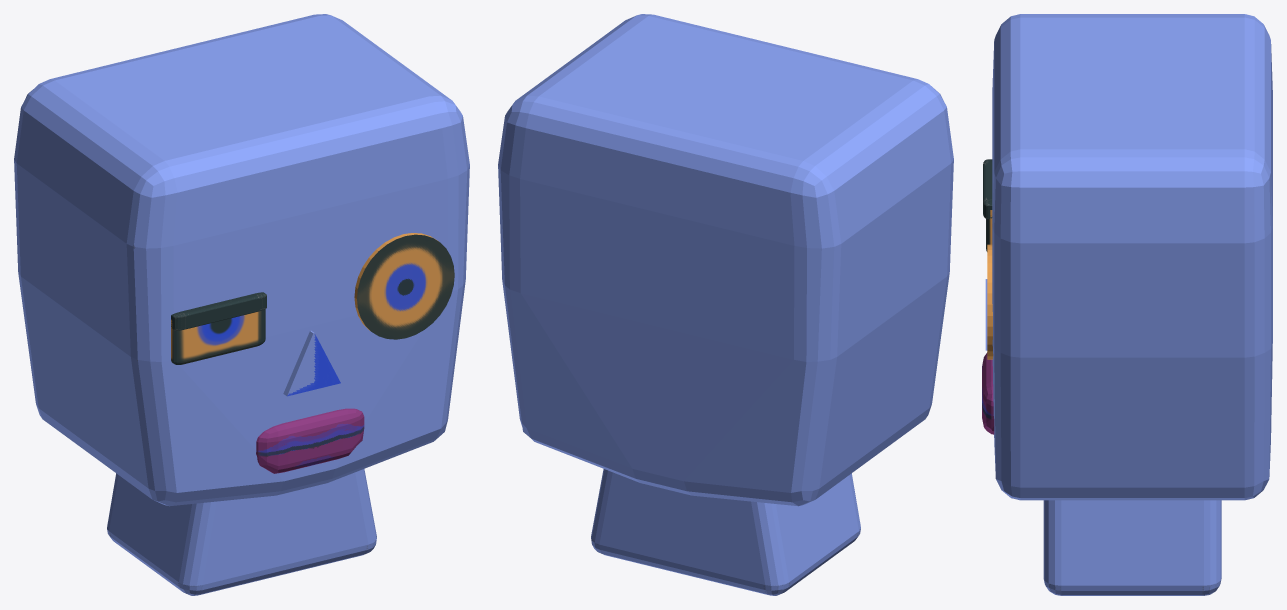
Rendered from mother_head2.glb.
The picture shows the model from 3 angles, left to right: view 1: azimuth 30°, elevation 25°; view 2: azimuth 150°, elevation 25°; view 3: azimuth 270°, elevation 25°; orthographic projection. The views are drawn at different scales.
Parts seen in each view (by area): view 1: Roundcube, Roundcube.001, Cylinder, Roundcube.005, Roundcube.002, Cube, Roundcube.003; view 2: Roundcube, Roundcube.001; view 3: Roundcube, Roundcube.001, Roundcube.005, Cylinder, Roundcube.003.
Part boxes in pixels (x1,y1,x2,y2): Roundcube: (14, 14, 469, 506); Roundcube.001: (107, 469, 376, 595); Cylinder: (354, 233, 454, 339); Roundcube.005: (256, 408, 364, 473); Roundcube.002: (171, 309, 265, 364); Cube: (283, 330, 340, 396); Roundcube.003: (171, 292, 266, 330); Roundcube: (498, 14, 953, 506); Roundcube.001: (591, 469, 860, 595); Roundcube: (992, 14, 1272, 500); Roundcube.001: (1043, 500, 1221, 595); Roundcube.005: (982, 352, 994, 434); Cylinder: (987, 244, 993, 359); Roundcube.003: (983, 159, 992, 218).
Bounding box in the file's own units: 4.51 × 5.82 × 3.26.
Materials: 2 (2 with a texture image).
